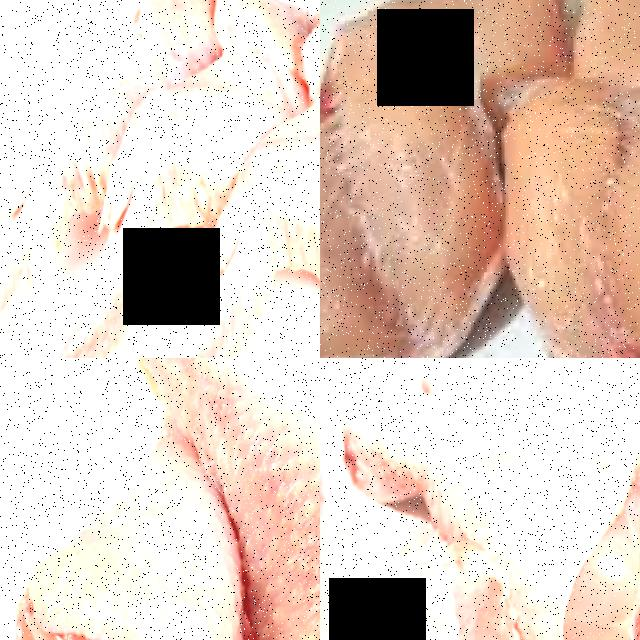chicken breast: (320, 74, 493, 358), (504, 61, 640, 358), (320, 0, 557, 91)
chicken thigh: (320, 358, 541, 640), (149, 358, 320, 640), (6, 467, 247, 640)
chicken wing: (138, 10, 320, 358)
